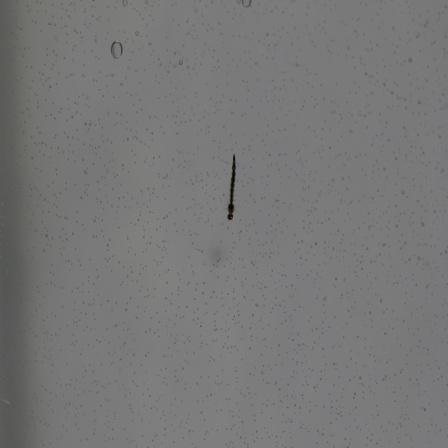Jentik-Nyamuk: (220, 147, 245, 228)
